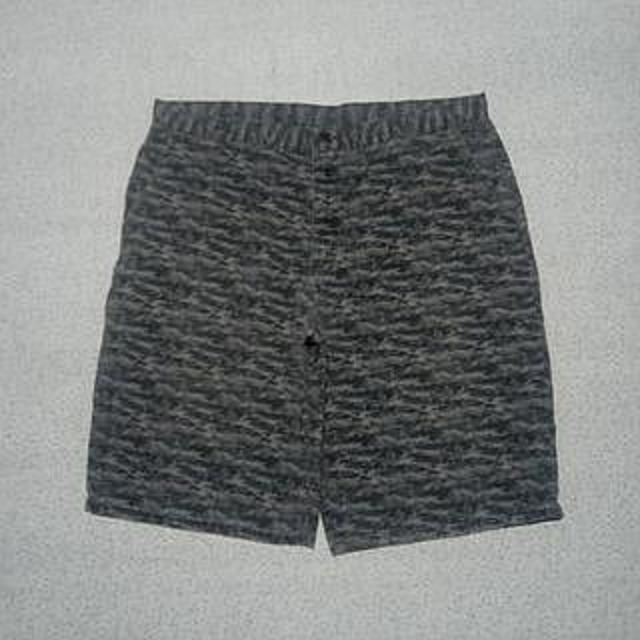SHORT: (73, 82, 590, 561)
